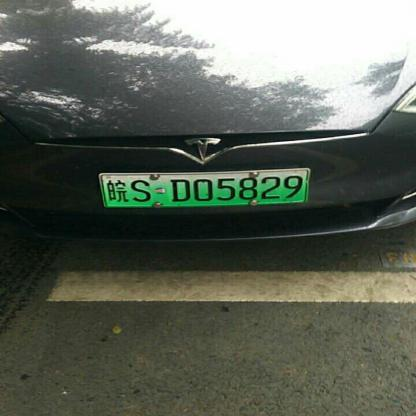lp: (100, 168, 308, 207)
